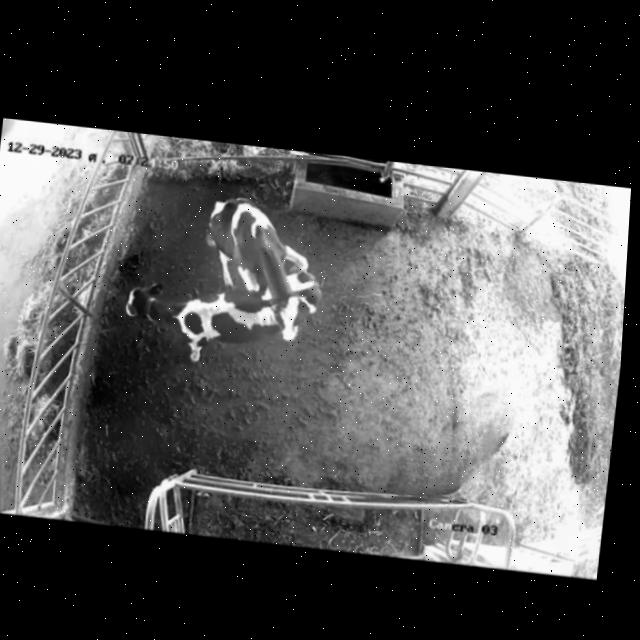ride: (183, 192, 328, 363)
stand: (110, 246, 342, 381)
